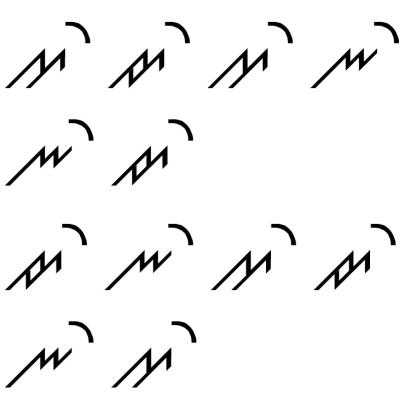jay: (313, 217, 399, 292), (107, 17, 191, 92), (5, 220, 90, 294), (111, 116, 197, 188)
nyay: (103, 216, 195, 298), (6, 110, 98, 188), (309, 16, 402, 93), (3, 318, 96, 393)
say: (208, 218, 300, 295), (207, 18, 298, 95), (112, 313, 200, 391), (5, 17, 92, 91)
